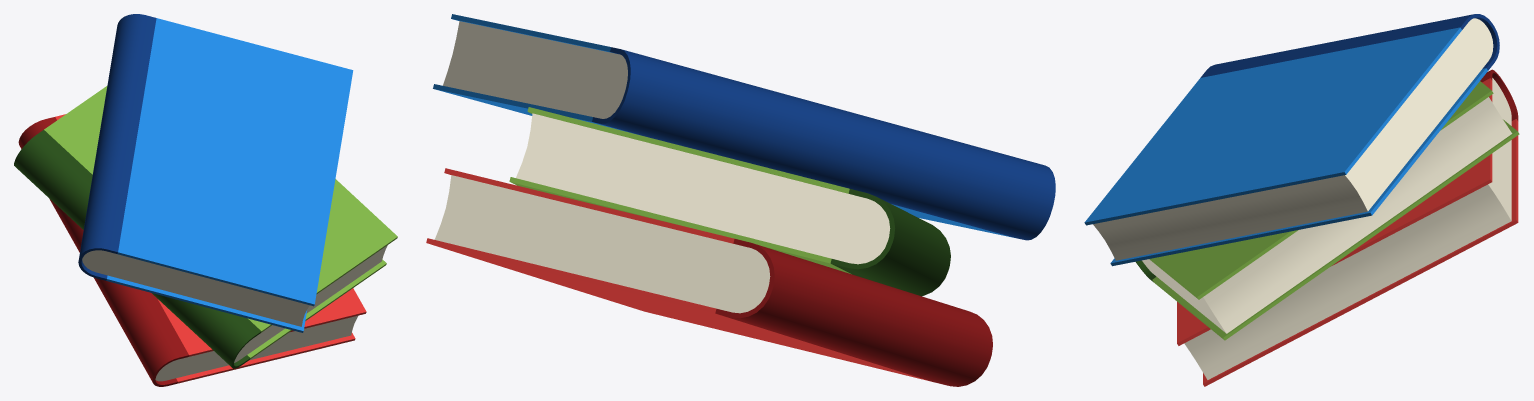
File: books.glb
3 renders of one model, left to right at view 1: azimuth 30°, elevation 25°; view 2: azimuth 150°, elevation 25°; view 3: azimuth 270°, elevation 25°, orthographic. The views are drawn at different scales.
Visible parts, largest first — view 1: Cube.951; view 2: Cube.951; view 3: Cube.951.
Boxes of the visible parts, box(x1,y1,x2,y2) form: Cube.951: box(14, 14, 397, 386); Cube.951: box(426, 14, 1055, 386); Cube.951: box(1084, 14, 1519, 386).
Bounding box in the file's own units: 2.27 × 1.8 × 2.27.
Materials: 1 (1 with a texture image).
